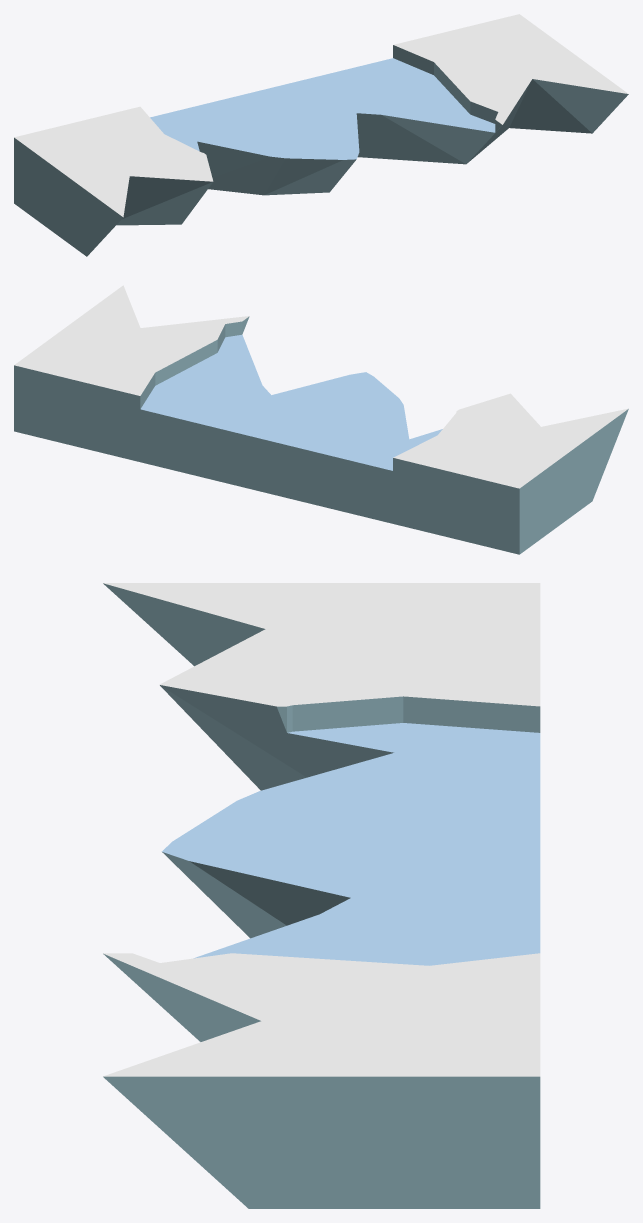
File: Terrain_Tile_Ice_Snow_Ledge_River_01.fbx
The picture shows the model from 3 angles, top to bottom: view 1: azimuth 30°, elevation 25°; view 2: azimuth 150°, elevation 25°; view 3: azimuth 270°, elevation 25°; orthographic projection. The views are drawn at different scales.
Parts seen in each view (by area): view 1: Terrain_Tile_Ice_Snow_Ledge_River_01; view 2: Terrain_Tile_Ice_Snow_Ledge_River_01; view 3: Terrain_Tile_Ice_Snow_Ledge_River_01.
Boxes of the visible parts, x1,y1,x2,y2 form: Terrain_Tile_Ice_Snow_Ledge_River_01: (14,14,628,256); Terrain_Tile_Ice_Snow_Ledge_River_01: (14,285,628,554); Terrain_Tile_Ice_Snow_Ledge_River_01: (103,583,540,1208).
Bounding box in the file's own units: 126 × 15.75 × 47.24.
